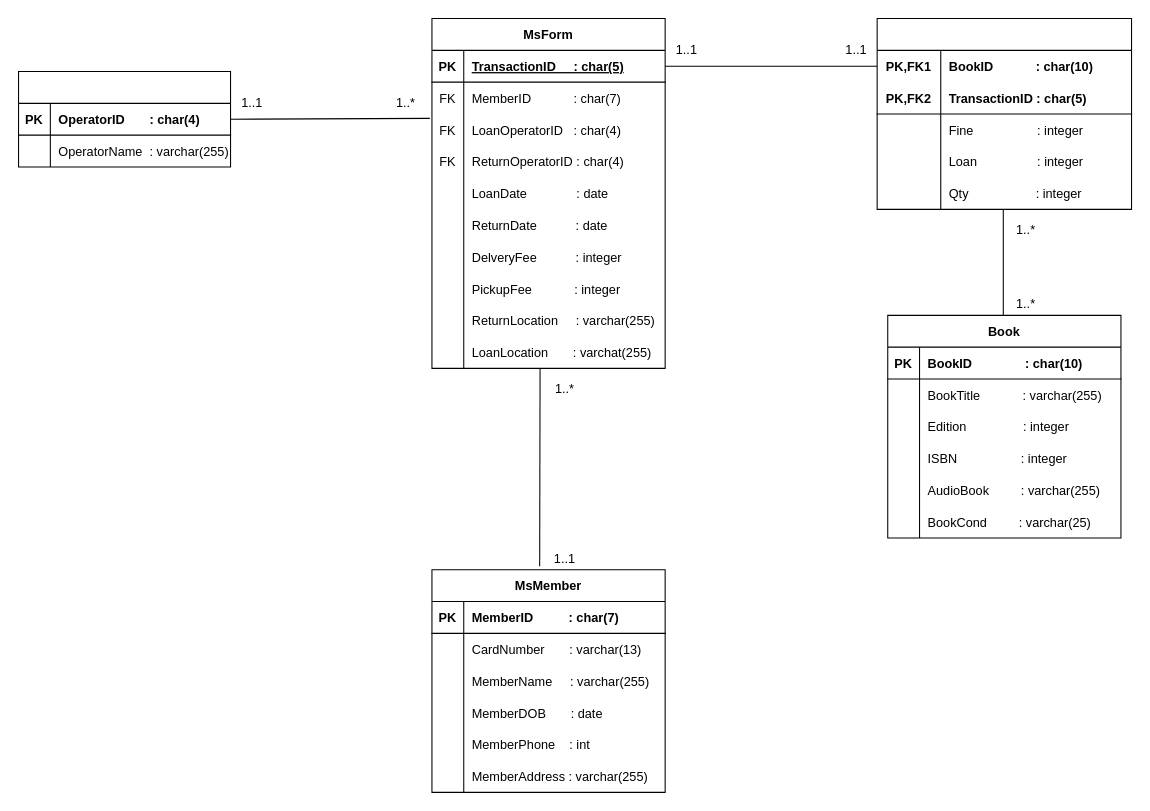
Image size: 1150x811. Some labels were removed from this diagram. Each missing label, with the box of its shape:
FormDetail: (876, 17, 1132, 209)
MsOperator: (17, 70, 231, 167)
